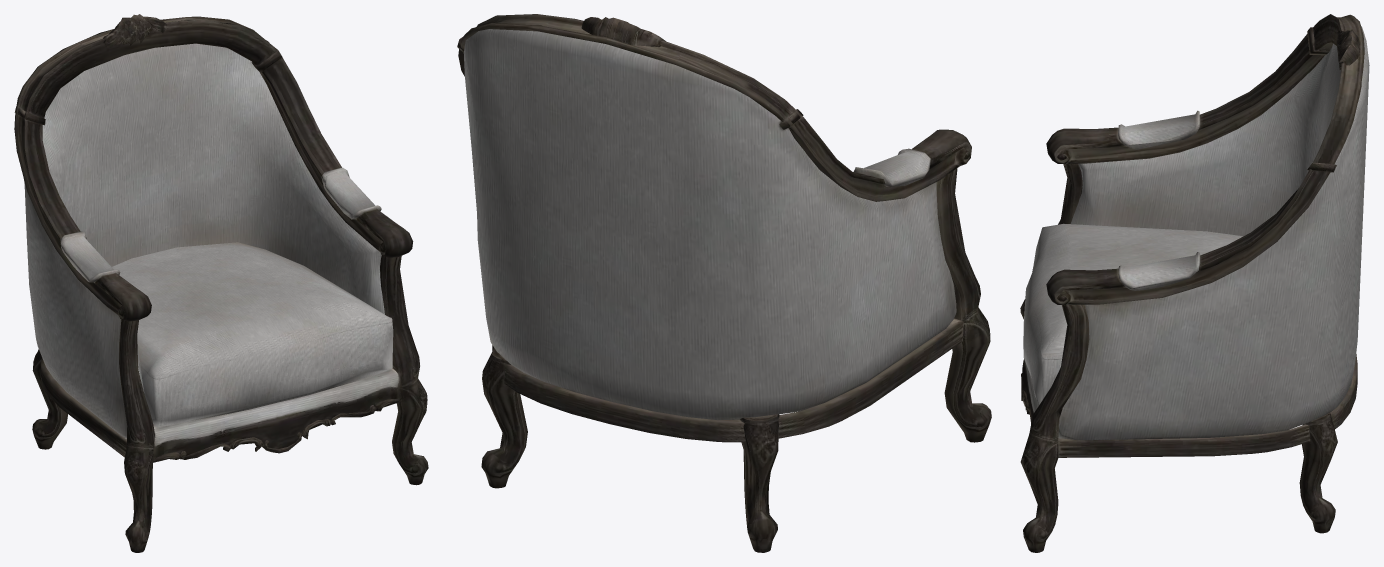
File: ArmChair_01.glb
3 views of the same model, side by side, from view 1: azimuth 30°, elevation 25°; view 2: azimuth 150°, elevation 25°; view 3: azimuth 270°, elevation 25° (orthographic). The views are drawn at different scales.
Visible parts, largest first — view 1: ArmChair_01; view 2: ArmChair_01; view 3: ArmChair_01.
Boxes of the visible parts, <box> form: ArmChair_01: <box>14,14,428,552</box>; ArmChair_01: <box>457,14,991,552</box>; ArmChair_01: <box>1020,14,1369,552</box>.
Bounding box in the file's own units: 0.8483 × 1.06 × 0.7658.
1 material, 1 textured.
